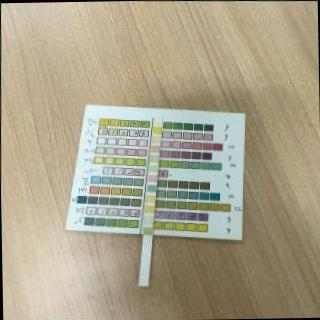mark: (142, 227, 152, 236), (143, 215, 153, 224), (148, 164, 157, 172), (152, 126, 161, 134), (153, 116, 162, 124), (144, 205, 154, 212), (144, 195, 154, 202), (146, 184, 156, 191), (147, 174, 157, 181), (151, 136, 160, 143), (151, 146, 160, 152), (150, 156, 158, 162)
